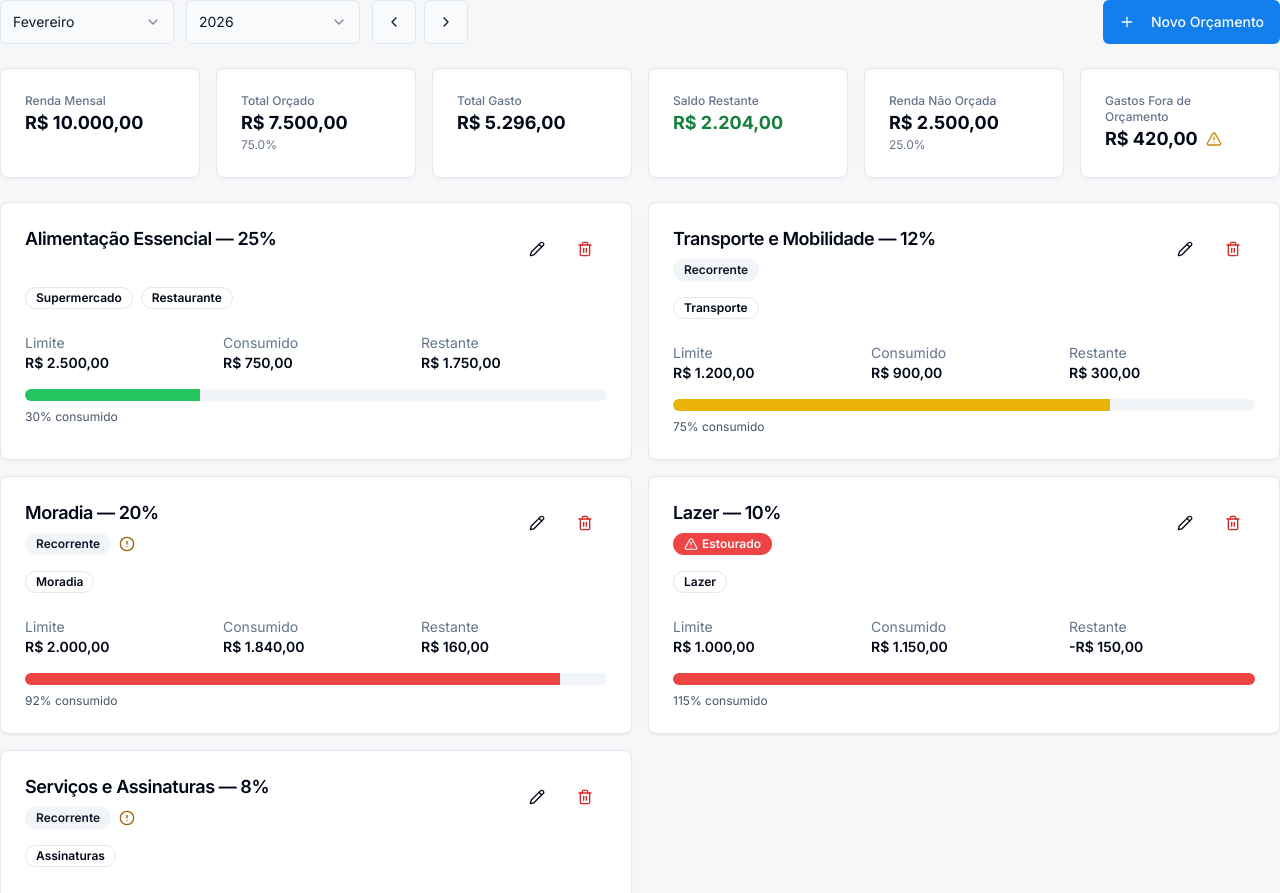
Scenario: BudgetDashboard › should change displayed data when month/year filter changes
The width and height of the screenshot is (1280, 893).
Check: the text "Alimentação Essencial — 25%" is shown, box [25,227,276,251]
Click the button named "próximo mês" at (446, 22), box [424,0,468,44]
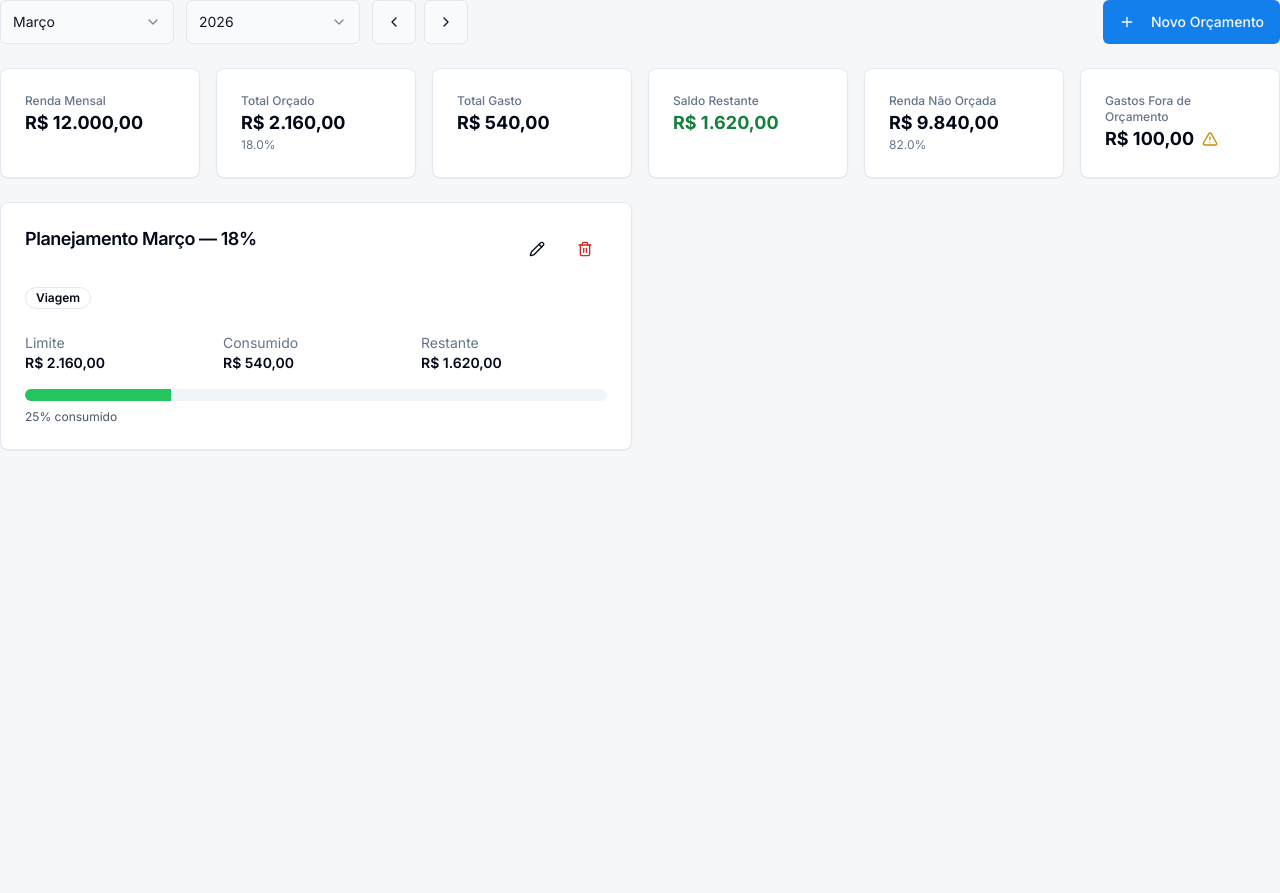
Check: the text "Planejamento Março — 18%" is shown, box [25,227,256,251]
Check: the text "Alimentação Essencial — 25%" is gone
